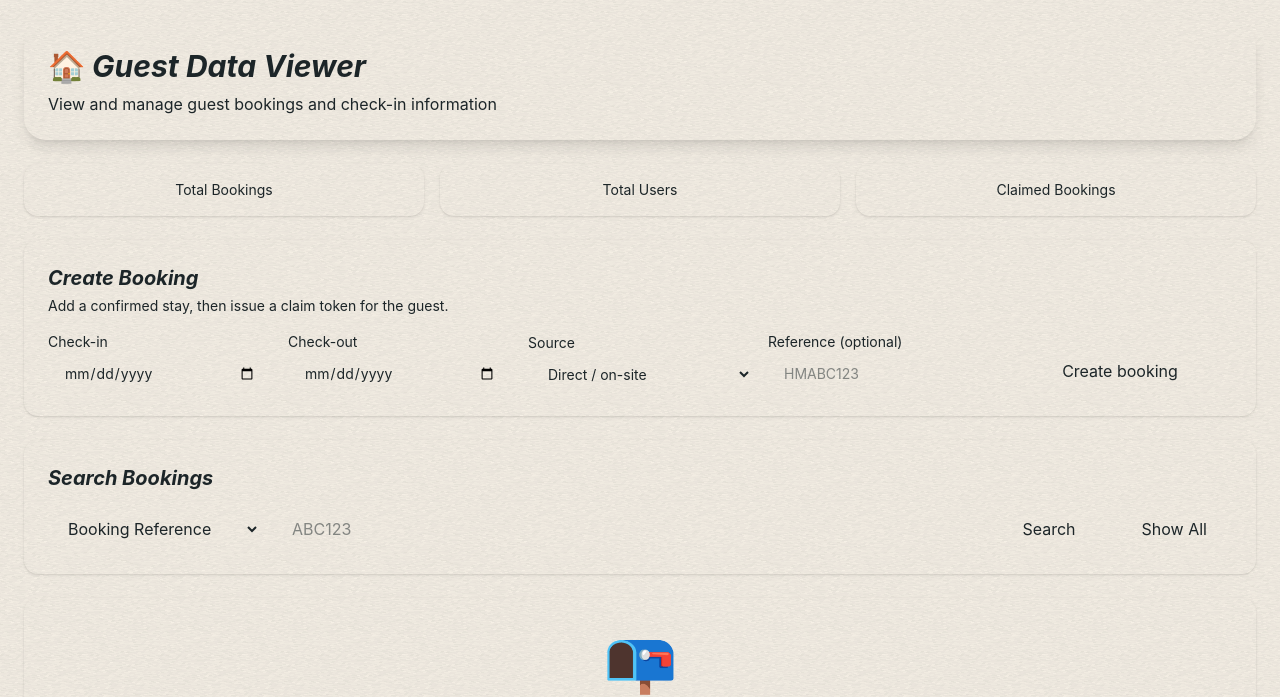
Test case: admin guests create booking › shows the reason of a rejected booking, not the generic validation message
Type "2026-11-01" into the date field labelled "Check-out" at coordinates (400, 374), box [288, 356, 512, 392]
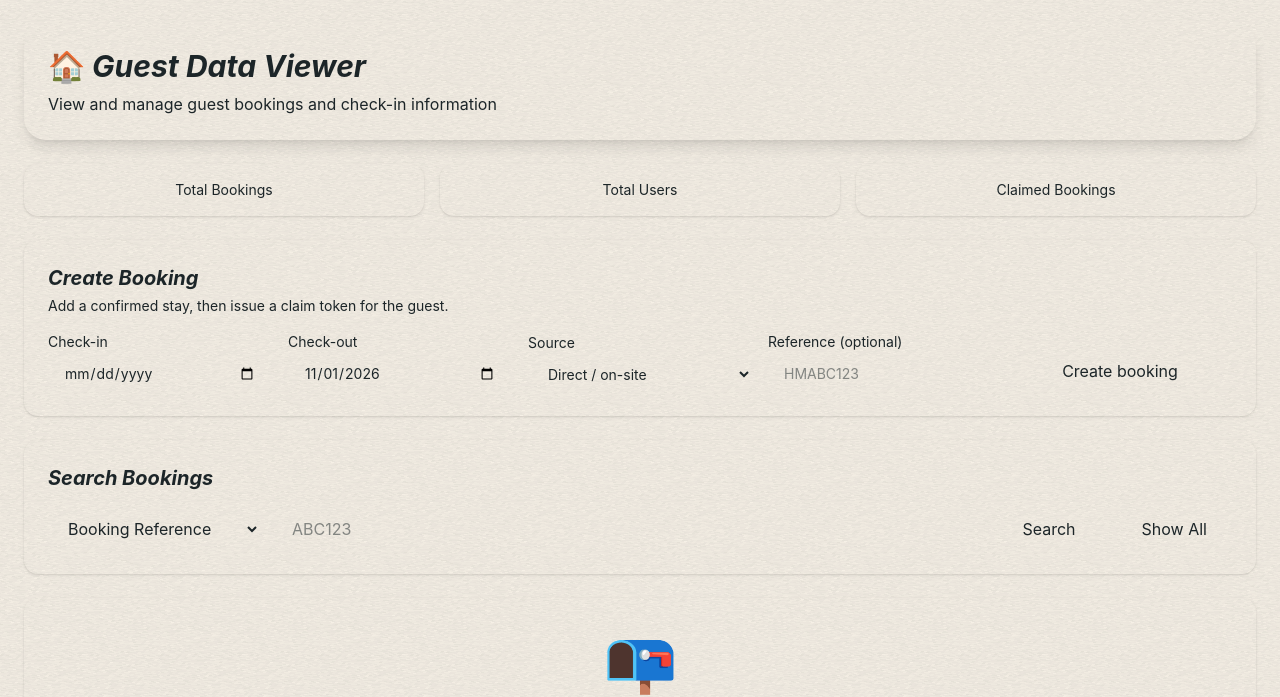
Type "2026-11-05" into the date field labelled "Check-in" at coordinates (160, 374), box [48, 356, 272, 392]
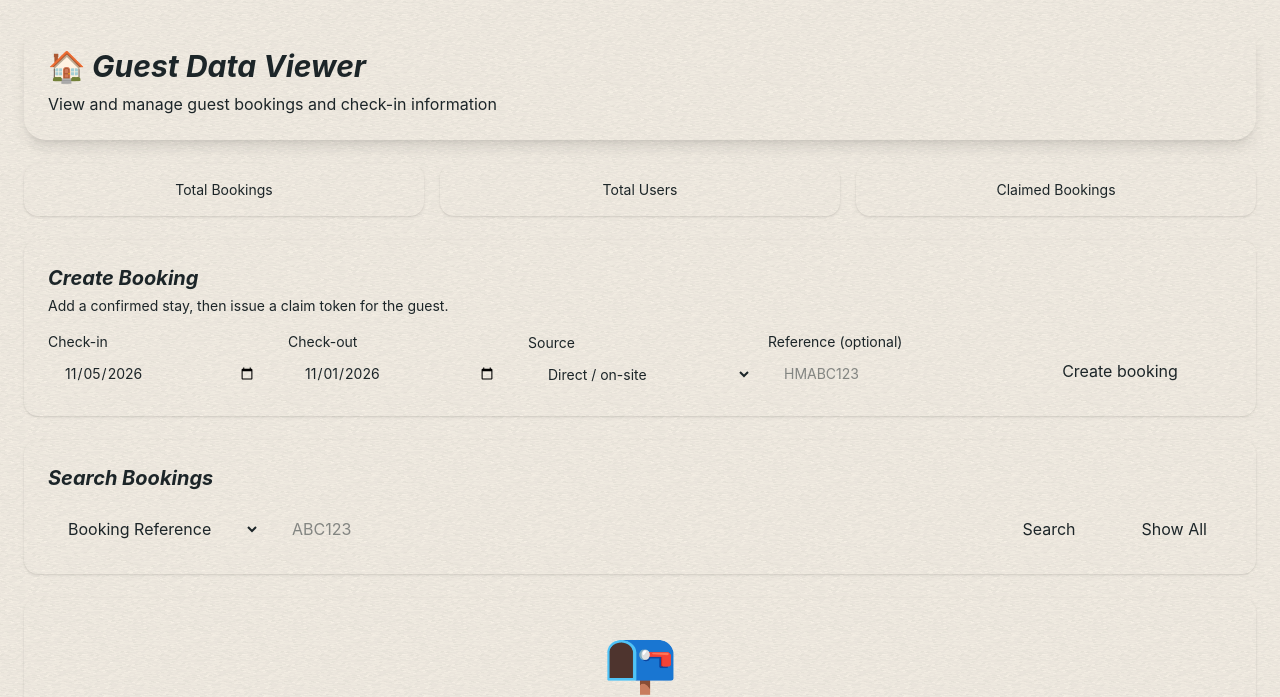
Submit the form, box [48, 332, 1232, 392]
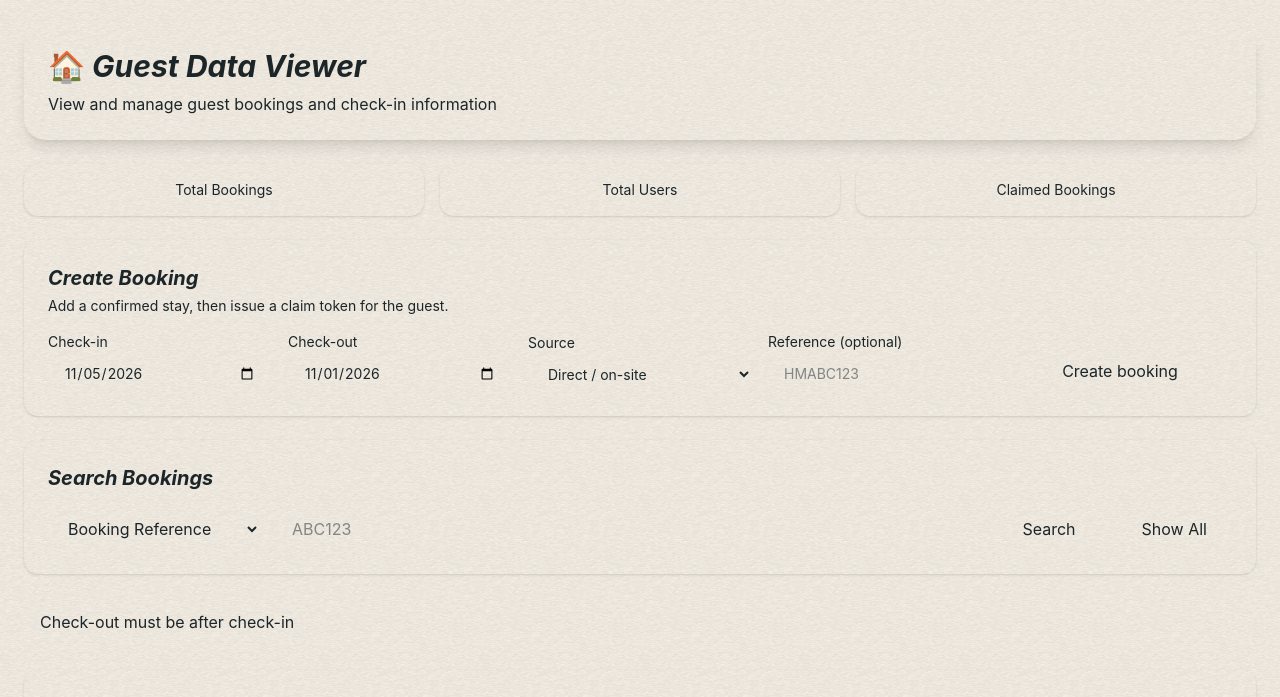
Check: the text "Check-out must be after check-in" is shown, box [40, 612, 294, 632]
